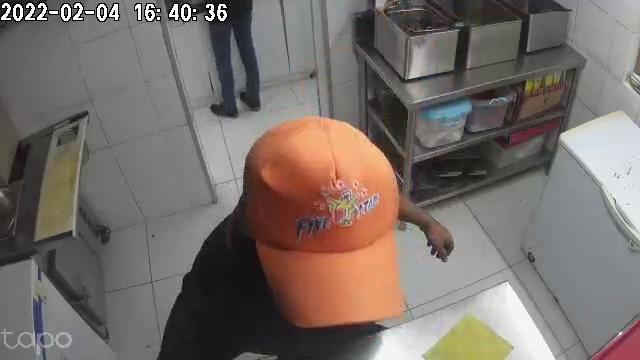no_gloves: (420, 217, 454, 263)
